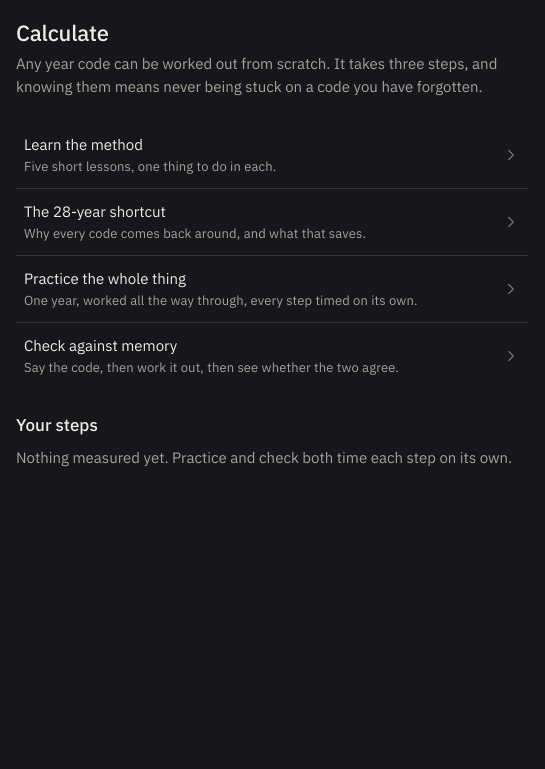
it: The 28-year shortcut › shows the repeat with real pairs, then the reason, then what it saves
This screenshot has width=545, height=769.
What coordinates should you click on to do the following:
click the button "The 28-year shortcut"
I would click on:
 (272, 222)
Its box is [16,189,528,255].
(page scrolled)
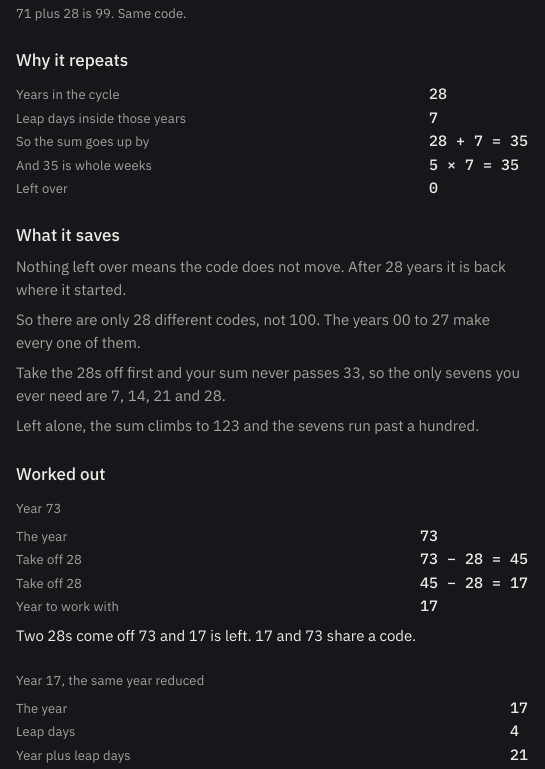
Now the text "Leap days inside those years" is shown, box [16,110,186,126]
Now the text "28 + 7 = 35" is shown, box [429,133,528,148]
Now the text "the only sevens you ever need are 7, 14, 21 and 28" is shown, box [16,363,520,404]
